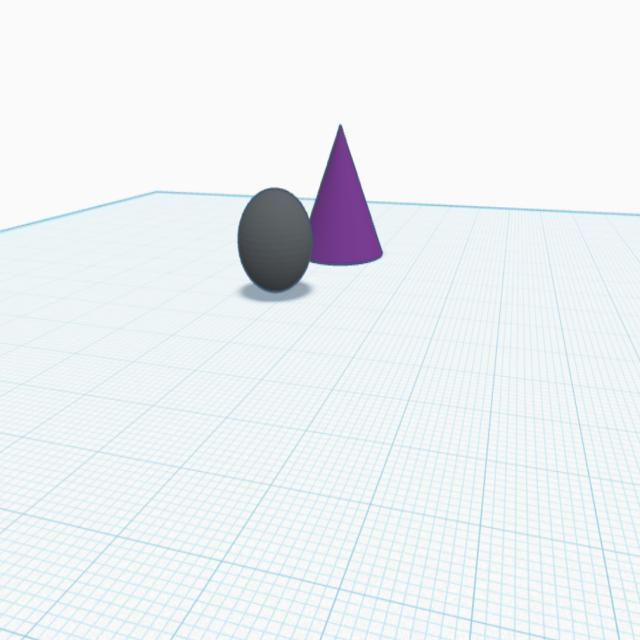sphere: (235, 182, 315, 299)
